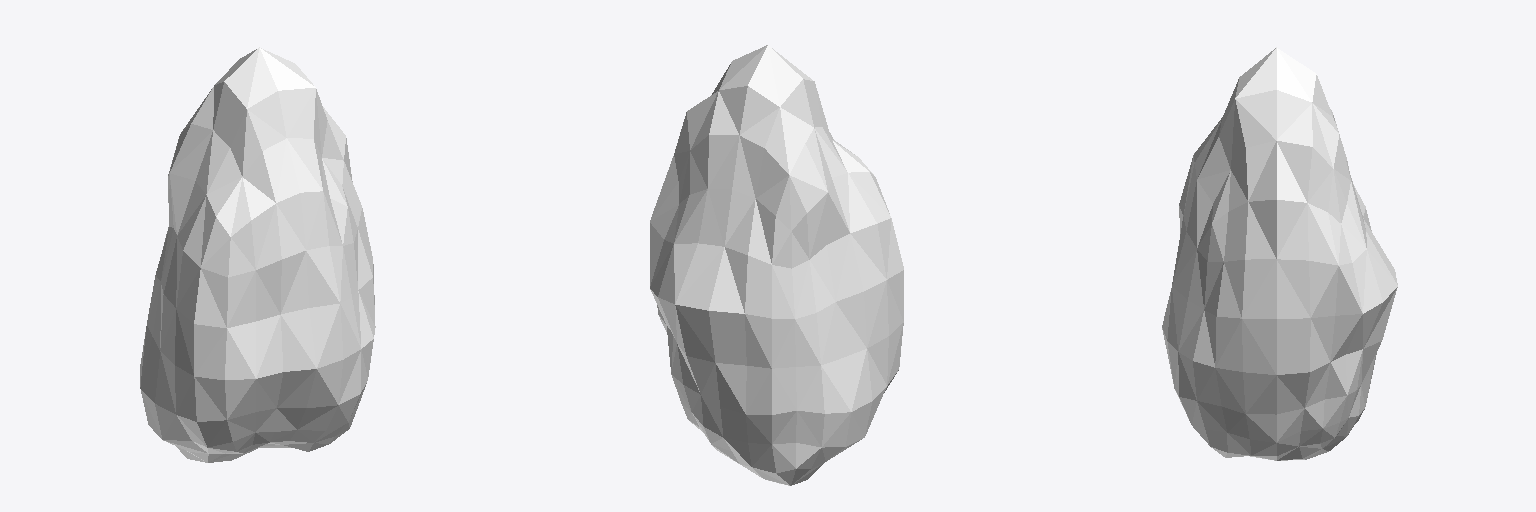
Rendered from boulder.obj.
The picture shows the model from 3 angles: view 1: azimuth 30°, elevation 25°; view 2: azimuth 150°, elevation 25°; view 3: azimuth 270°, elevation 25°; orthographic projection.
Visible parts, largest first — view 1: Stone_F_3_LOD1; view 2: Stone_F_3_LOD1; view 3: Stone_F_3_LOD1.
Boxes of the visible parts, box(x1,y1,x2,y2) form: Stone_F_3_LOD1: box(140, 47, 375, 462); Stone_F_3_LOD1: box(650, 45, 903, 485); Stone_F_3_LOD1: box(1162, 47, 1397, 460).
Bounding box in the file's own units: 10.18 × 19.8 × 10.11.